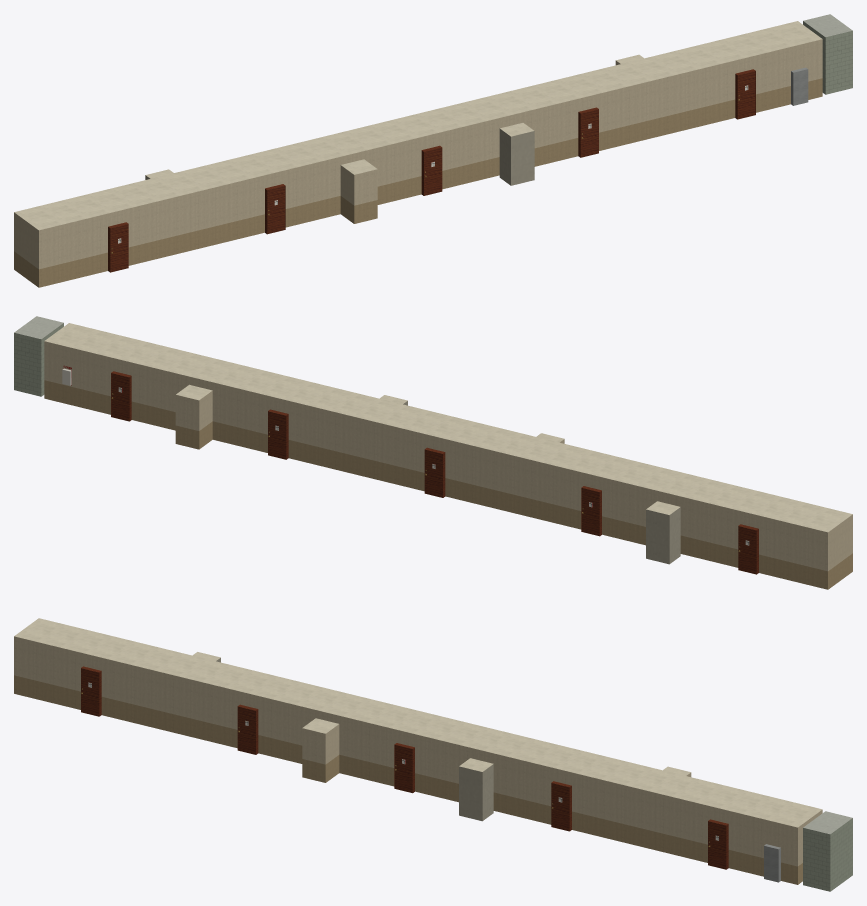
The model's file is floor_1_upper.glb.
3 renders of one model, top to bottom at view 1: azimuth 30°, elevation 25°; view 2: azimuth 150°, elevation 25°; view 3: azimuth 330°, elevation 25°, orthographic.
Visible parts, largest first — view 1: Wall_Upper.001, Ceiling_Popcorn.001, Wall_Lower.001, Stair_Paint.001, Closet_Paint.001, Door_Jamb.001, DoorLeaf_room_117, DoorLeaf_room_118, DoorLeaf_room_116, DoorLeaf_room_120, DoorLeaf_room_119, Ice_Steel (+1 smaller); view 2: Wall_Upper.001, Ceiling_Popcorn.001, Wall_Lower.001, Stair_Paint.001, Closet_Paint.001, Door_Jamb.001, DoorLeaf_room_112, DoorLeaf_room_113, DoorLeaf_room_111, DoorLeaf_room_115, DoorLeaf_room_114, Stair_Ceiling.001; view 3: Wall_Upper.001, Ceiling_Popcorn.001, Wall_Lower.001, Stair_Paint.001, Closet_Paint.001, Door_Jamb.001, DoorLeaf_room_119, DoorLeaf_room_120, DoorLeaf_room_116, DoorLeaf_room_118, DoorLeaf_room_117, Stair_Ceiling.001 (+1 smaller).
Part boxes in pixels (left/top/right/bottom): Wall_Upper.001: left=14, top=39, right=822, bottom=269; Ceiling_Popcorn.001: left=14, top=21, right=822, bottom=230; Wall_Lower.001: left=14, top=78, right=822, bottom=287; Stair_Paint.001: left=803, top=21, right=852, bottom=94; Closet_Paint.001: left=145, top=128, right=534, bottom=185; Door_Jamb.001: left=108, top=69, right=755, bottom=272; DoorLeaf_room_117: left=267, top=186, right=285, bottom=234; DoorLeaf_room_118: left=424, top=147, right=442, bottom=195; DoorLeaf_room_116: left=110, top=224, right=128, bottom=272; DoorLeaf_room_120: left=737, top=71, right=755, bottom=119; DoorLeaf_room_119: left=580, top=109, right=598, bottom=157; Ice_Steel: left=791, top=67, right=808, bottom=105; Wall_Upper.001: left=44, top=341, right=852, bottom=571; Ceiling_Popcorn.001: left=44, top=323, right=852, bottom=532; Wall_Lower.001: left=44, top=380, right=852, bottom=589; Stair_Paint.001: left=14, top=323, right=63, bottom=396; Closet_Paint.001: left=403, top=401, right=680, bottom=564; Door_Jamb.001: left=111, top=371, right=758, bottom=574; DoorLeaf_room_112: left=581, top=488, right=599, bottom=536; DoorLeaf_room_113: left=424, top=449, right=442, bottom=497; DoorLeaf_room_111: left=738, top=526, right=756, bottom=574; DoorLeaf_room_115: left=111, top=373, right=129, bottom=421; DoorLeaf_room_114: left=268, top=411, right=286, bottom=459; Stair_Ceiling.001: left=14, top=316, right=63, bottom=339; Wall_Upper.001: left=14, top=636, right=822, bottom=866; Ceiling_Popcorn.001: left=14, top=618, right=822, bottom=827; Wall_Lower.001: left=14, top=675, right=802, bottom=884; Stair_Paint.001: left=803, top=818, right=852, bottom=891; Closet_Paint.001: left=216, top=658, right=493, bottom=821; Door_Jamb.001: left=81, top=666, right=728, bottom=869; DoorLeaf_room_119: left=551, top=783, right=569, bottom=831; DoorLeaf_room_120: left=708, top=821, right=726, bottom=869; DoorLeaf_room_116: left=81, top=668, right=99, bottom=716; DoorLeaf_room_118: left=394, top=744, right=412, bottom=792; DoorLeaf_room_117: left=237, top=706, right=255, bottom=754; Stair_Ceiling.001: left=803, top=811, right=852, bottom=834.
Size of the model in its own units: 41.6 by 2.8 by 4.6.
35 materials, 26 textured.
